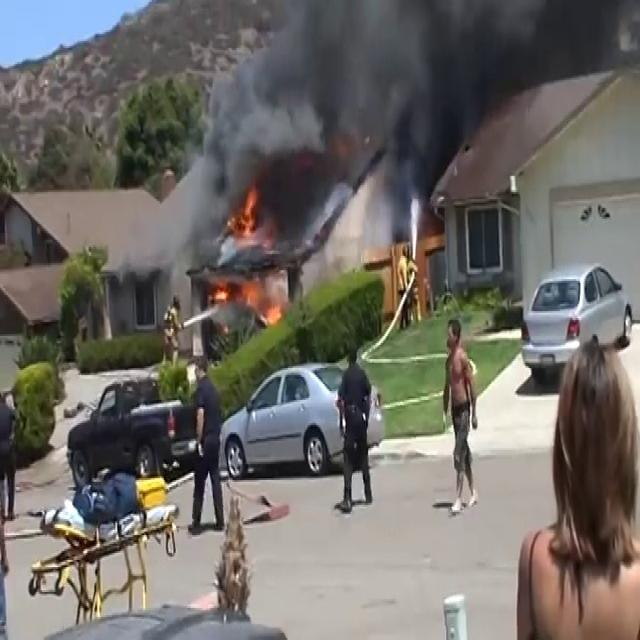Fire: (241, 272, 284, 328)
Smoke: (171, 0, 636, 233)
